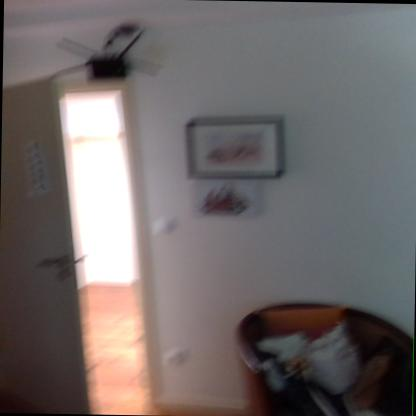semi: (0, 56, 165, 415)
